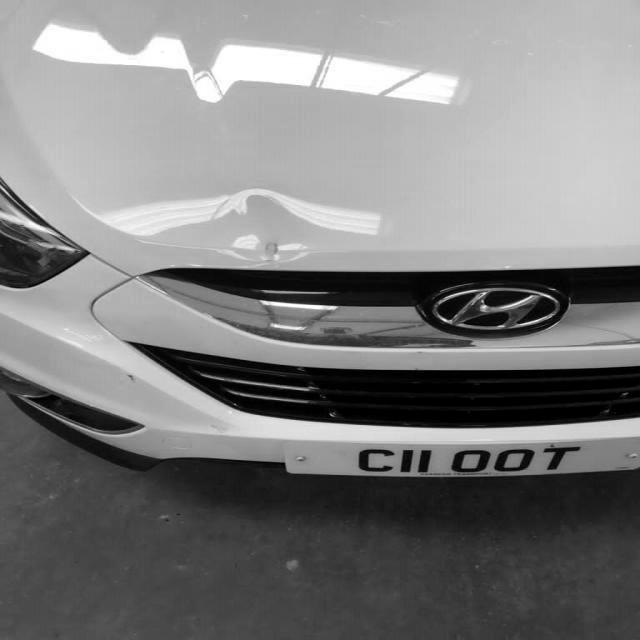bonnet-dent: (1, 2, 640, 307)
